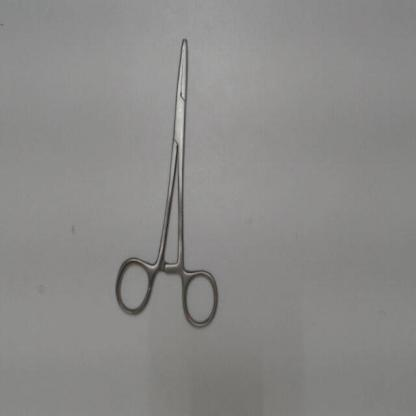Mayo Needle Holder: (106, 29, 224, 337)
